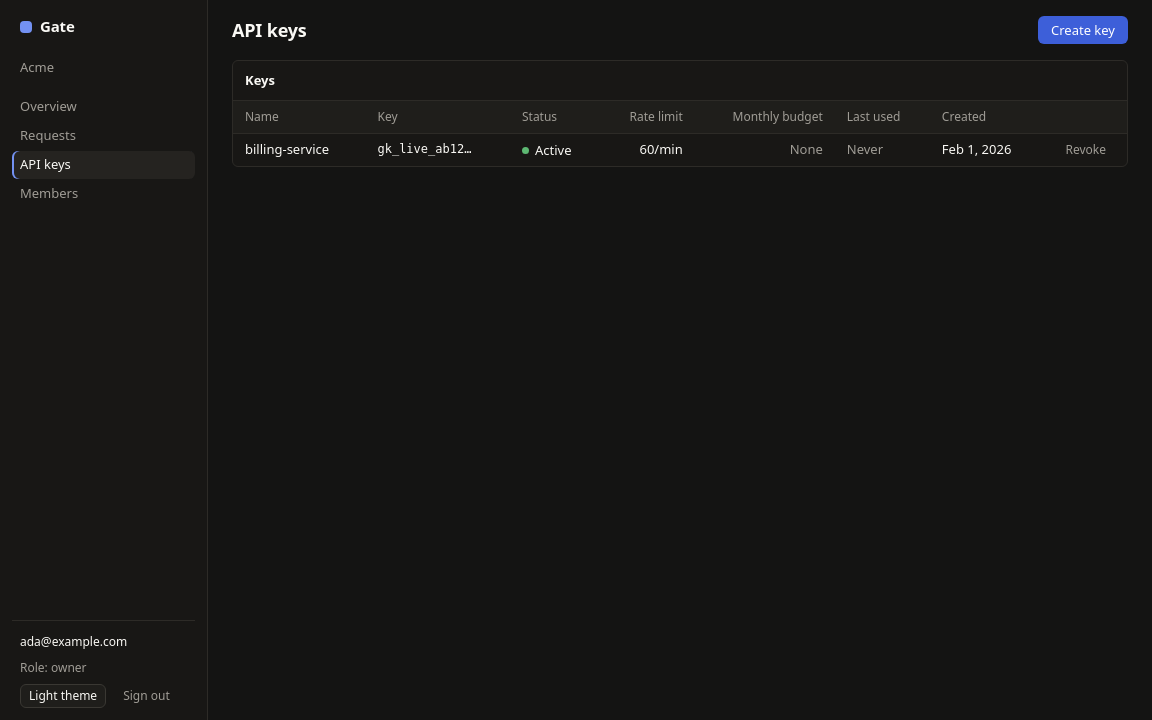
Test case: API keys: revoke › asks for confirmation, and cancelling revokes nothing
Click the button with aria-label "Revoke billing-service" at (1086, 150), box [1056,138,1115,162]
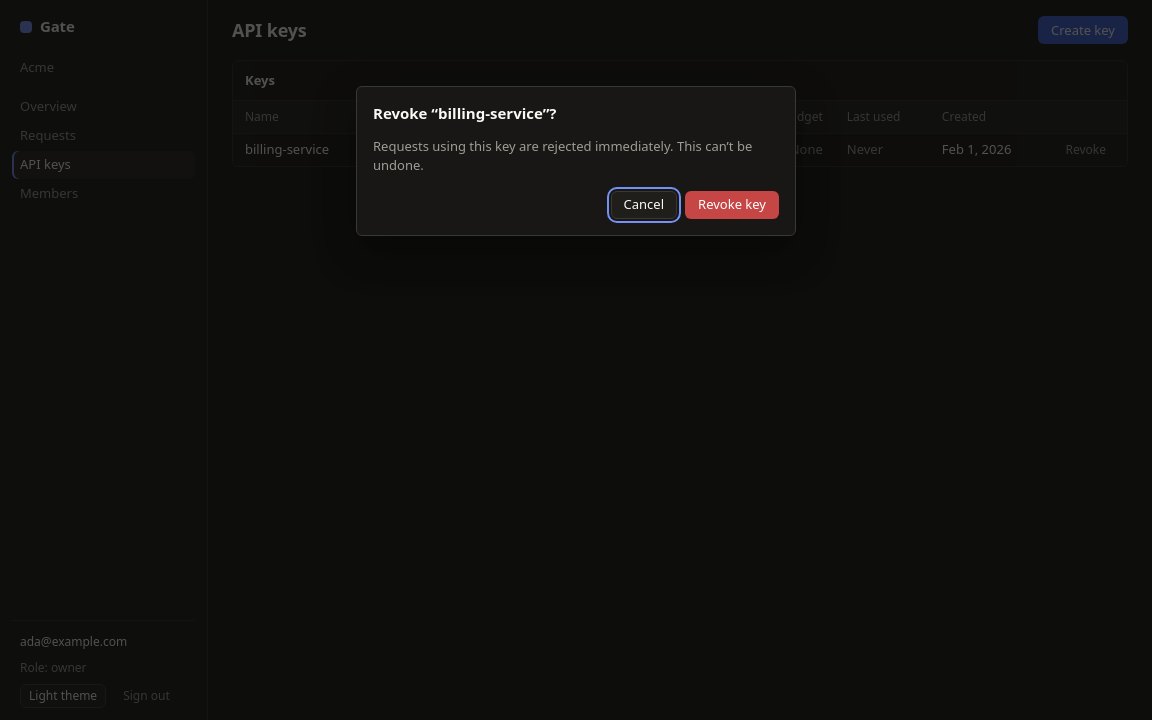
Expected: the dialog "Revoke “billing-service”?" shows "This can’t be undone.", [373,137,752,174]
Click the button "Cancel" at (644, 205), box [611,191,677,219]
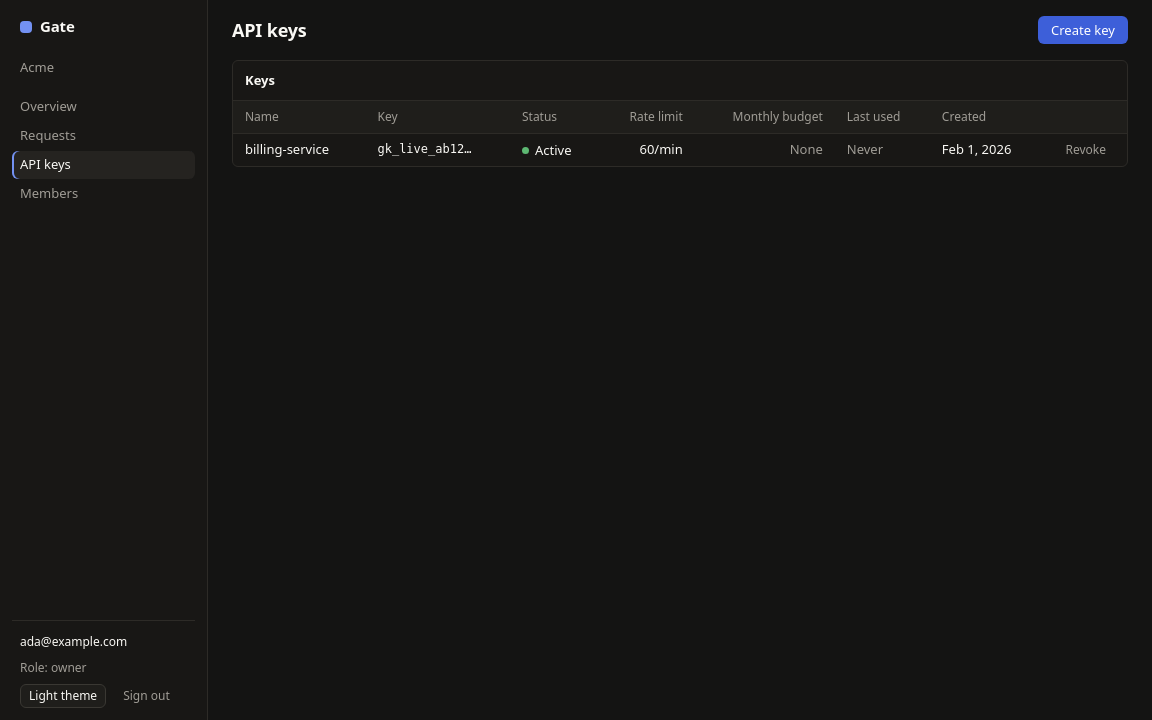
Expected: the dialog is gone
